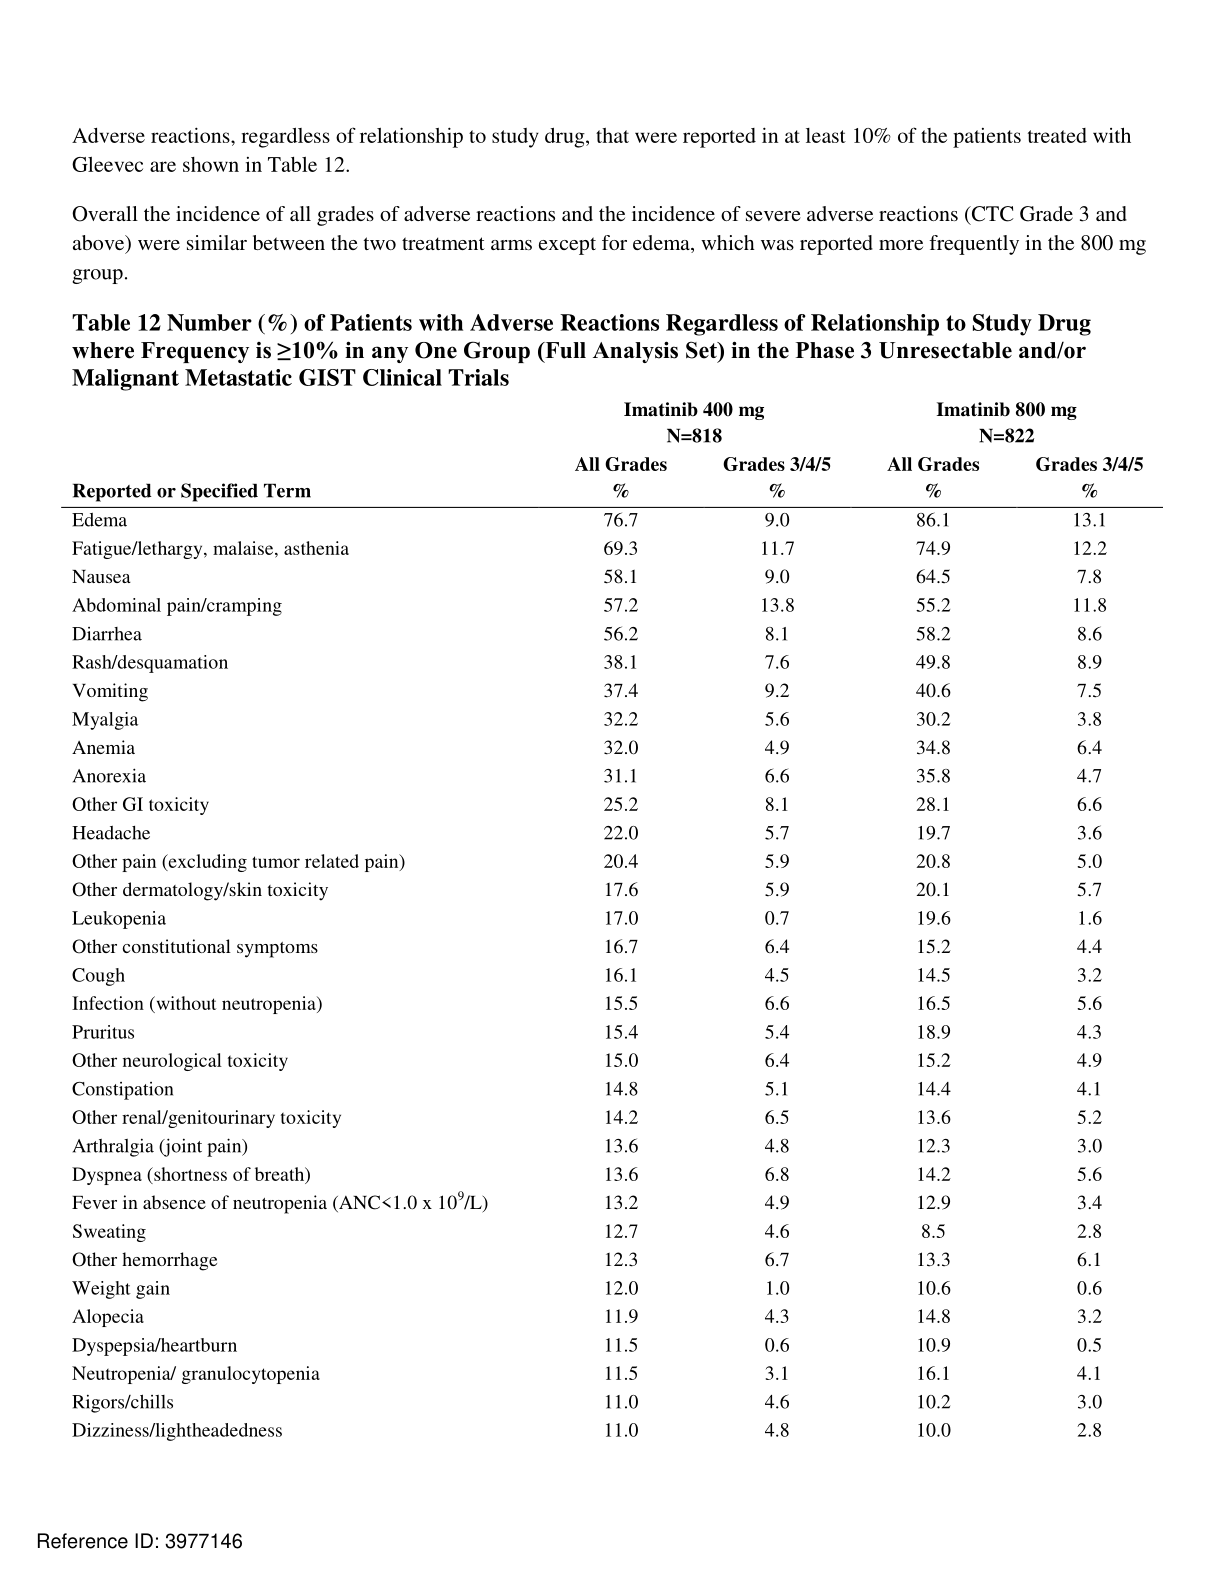partial_lined_merged_cells: (60, 400, 1166, 1445)
